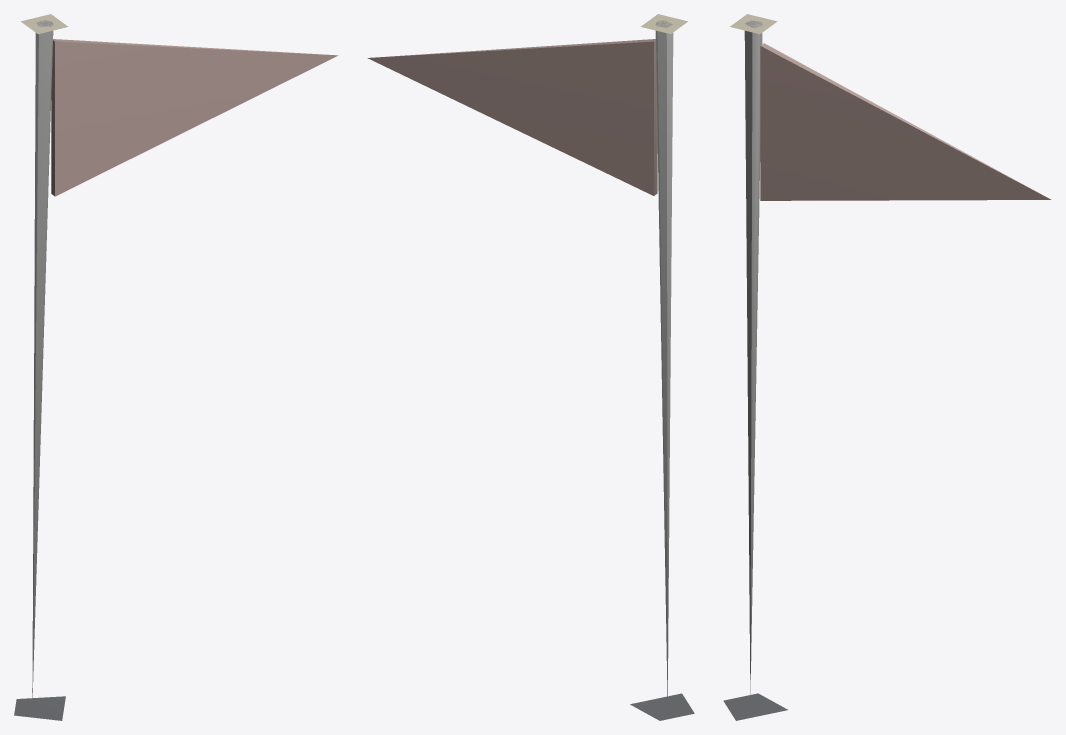
The model's file is cornerflag.lod2.glb.
The picture shows the model from 3 angles, left to right: view 1: azimuth 30°, elevation 25°; view 2: azimuth 150°, elevation 25°; view 3: azimuth 330°, elevation 25°; orthographic projection.
Size of the model in its own units: 0.75 by 1.5 by 0.1347.
